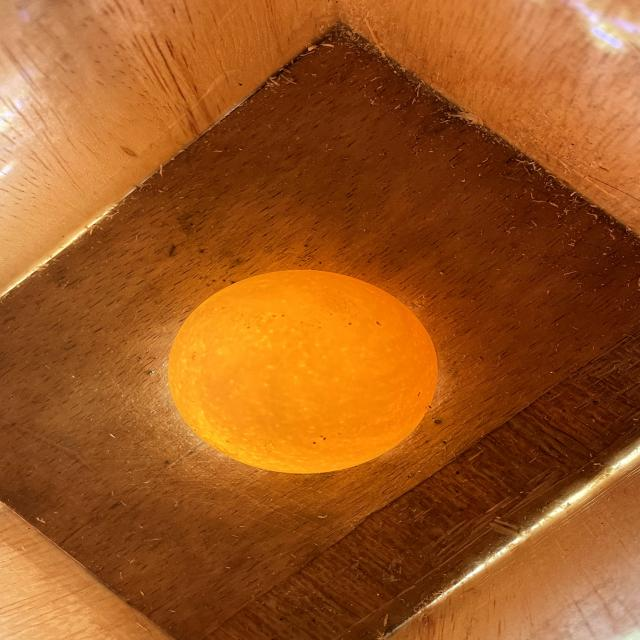infertile: (168, 270, 437, 474)
